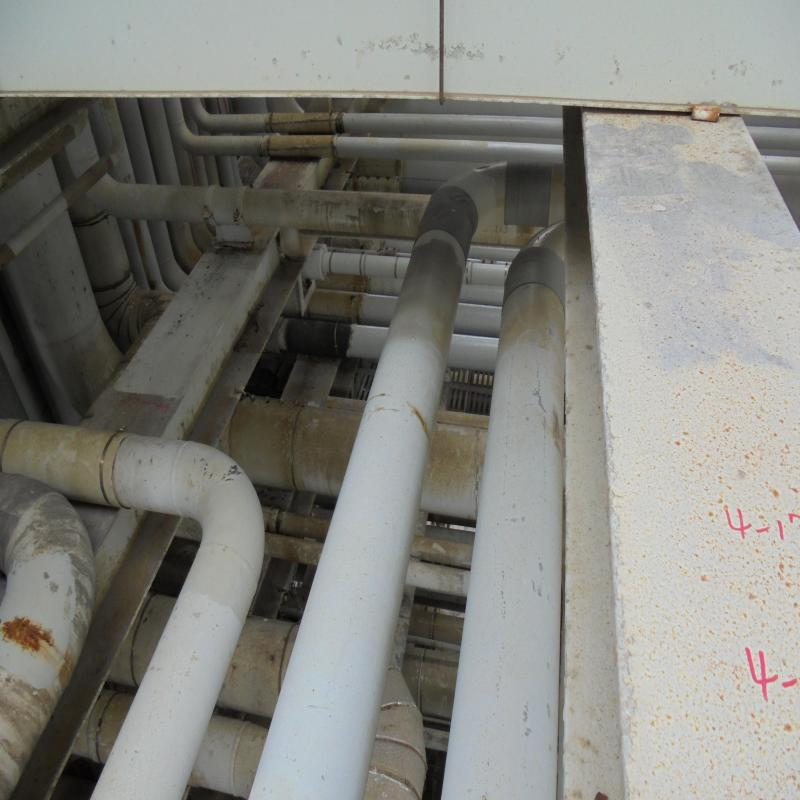corrosion: (12, 613, 46, 646)
